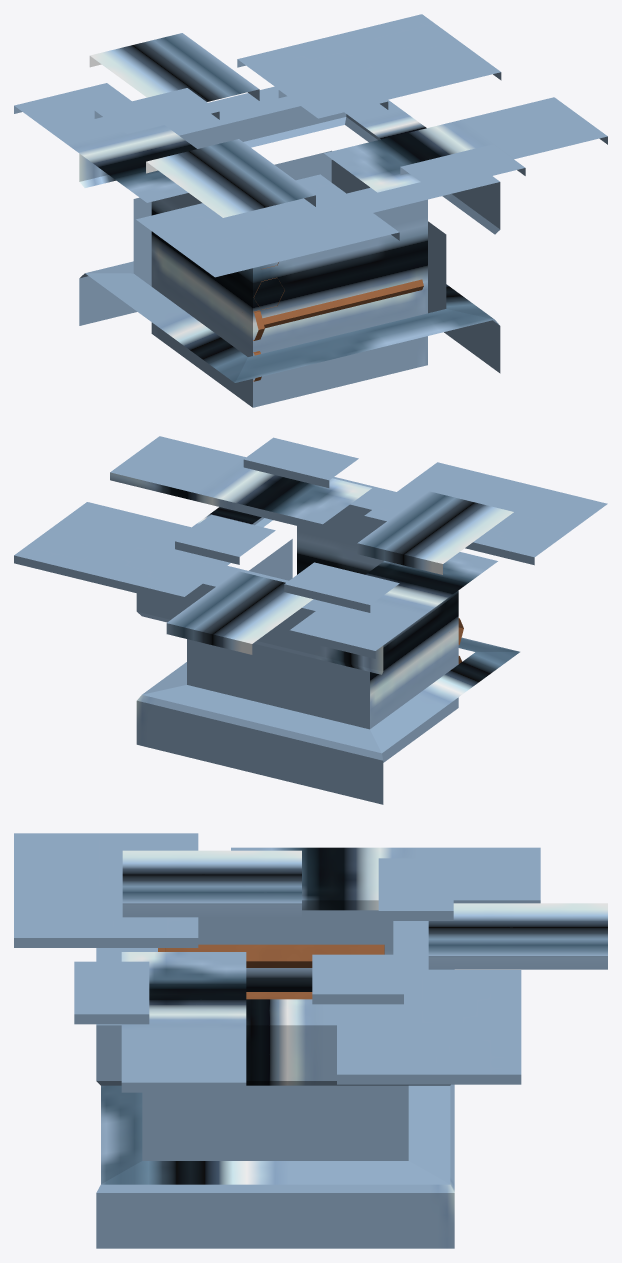
File: JC_ModPanels_UniqueTile_II.obj
The picture shows the model from 3 angles, top to bottom: view 1: azimuth 30°, elevation 25°; view 2: azimuth 150°, elevation 25°; view 3: azimuth 270°, elevation 25°; orthographic projection. The views are drawn at different scales.
Visible parts, largest first — view 1: JC_ModPanels_UniqueTile_II; view 2: JC_ModPanels_UniqueTile_II; view 3: JC_ModPanels_UniqueTile_II.
Part boxes in pixels (x1,y1,x2,y2): JC_ModPanels_UniqueTile_II: [14, 14, 607, 407]; JC_ModPanels_UniqueTile_II: [14, 436, 607, 804]; JC_ModPanels_UniqueTile_II: [14, 833, 607, 1248].
Size of the model in its own units: 329 by 152 by 331.
Materials: 2 (2 with a texture image).
